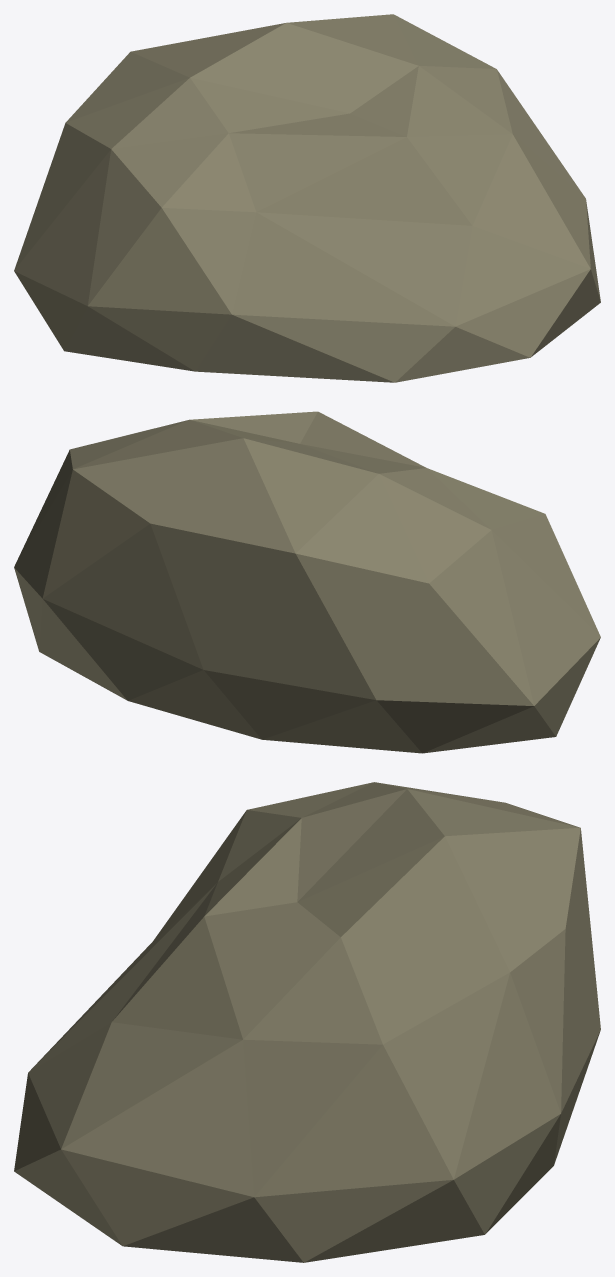
Rendered from rock3.dae.
3 renders of one model, top to bottom at view 1: azimuth 30°, elevation 25°; view 2: azimuth 150°, elevation 25°; view 3: azimuth 270°, elevation 25°, orthographic. The views are drawn at different scales.
Parts seen in each view (by area): view 1: caillou2; view 2: caillou2; view 3: caillou2.
Part boxes in pixels (<box>): caillou2: <box>14,14,600,382</box>; caillou2: <box>14,411,600,753</box>; caillou2: <box>14,782,600,1262</box>.
Size of the model in its own units: 0.6133 by 0.4964 by 0.2844.
